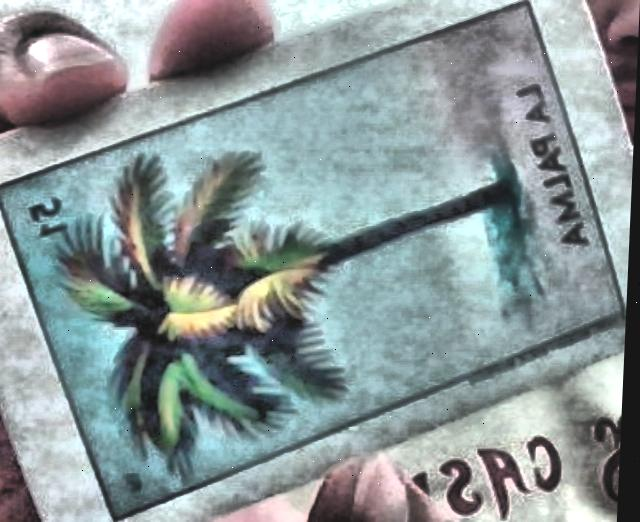La Palma: (0, 2, 625, 520)
